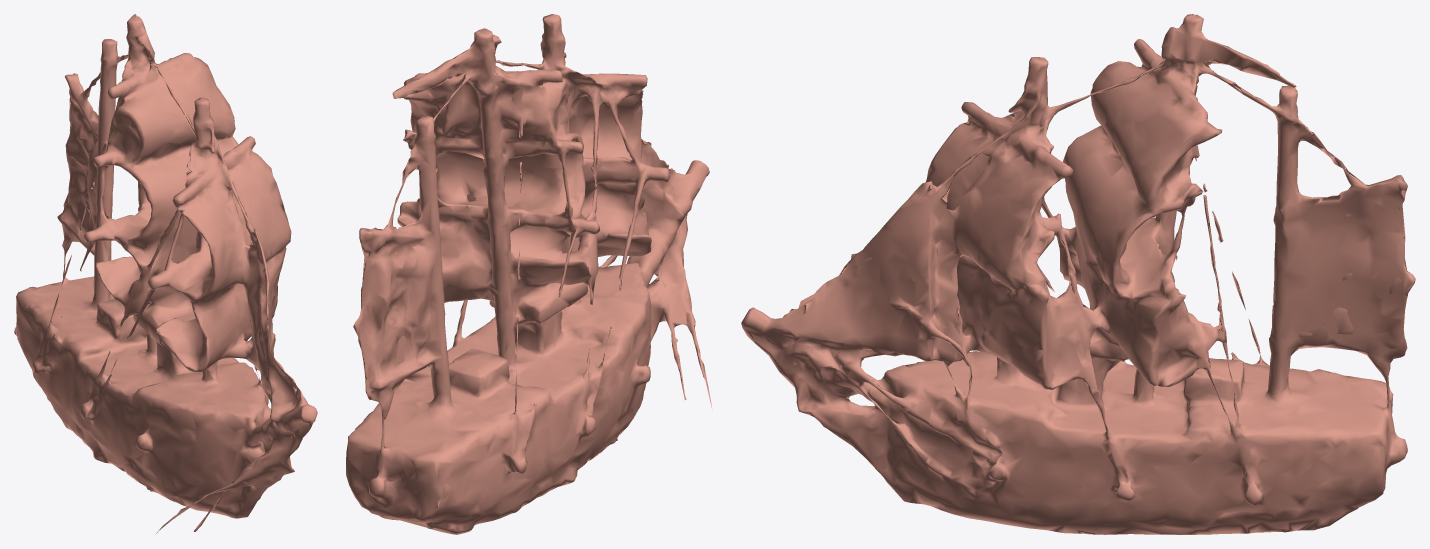
The model's file is mini_pirate_ship_light.glb.
The picture shows the model from 3 angles, left to right: view 1: azimuth 30°, elevation 25°; view 2: azimuth 150°, elevation 25°; view 3: azimuth 270°, elevation 25°; orthographic projection. The views are drawn at different scales.
Visible parts, largest first — view 1: Object_2; view 2: Object_2; view 3: Object_2.
Boxes of the visible parts, left/top/right/bottom form: Object_2: left=14, top=14, right=317, bottom=533; Object_2: left=346, top=14, right=712, bottom=534; Object_2: left=741, top=14, right=1415, bottom=534.
Bounding box in the file's own units: 0.0393 × 0.0846 × 0.1049.
